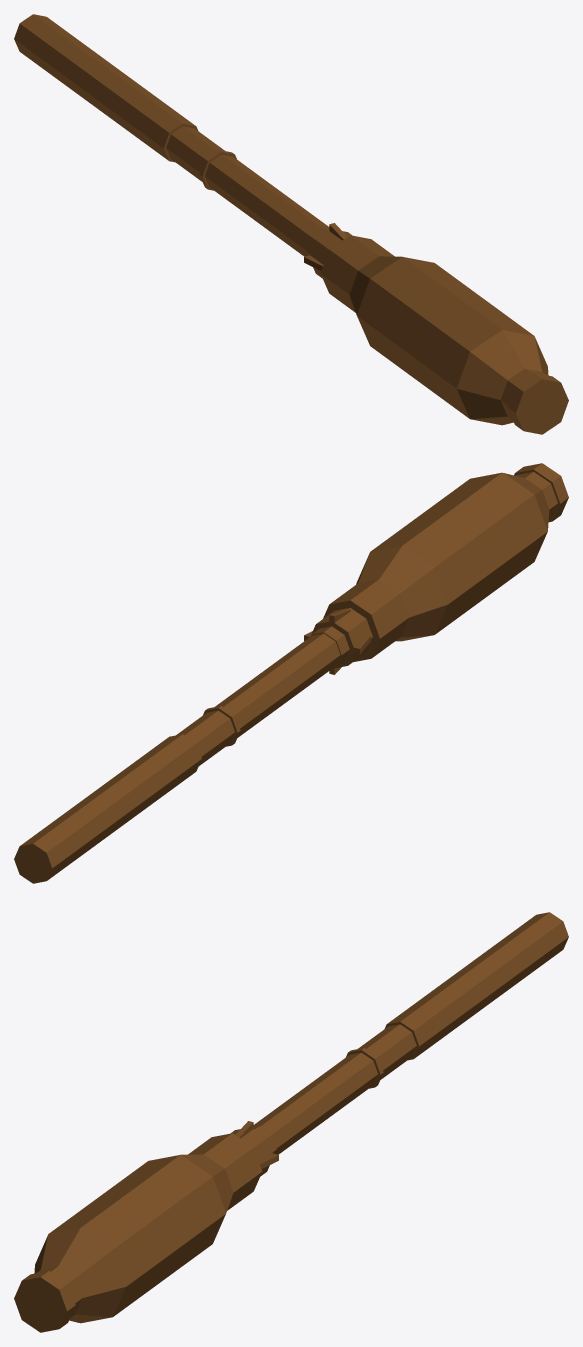
File: tbg7v.gltf
3 views of the same model, one above another, from view 1: azimuth 30°, elevation 25°; view 2: azimuth 150°, elevation 25°; view 3: azimuth 330°, elevation 25° (orthographic).
Parts seen in each view (by area): view 1: tbg7v; view 2: tbg7v; view 3: tbg7v.
Boxes of the visible parts, x1,y1,x2,y2 form: tbg7v: (14,14,568,434); tbg7v: (14,463,568,883); tbg7v: (14,912,568,1332).
Size of the model in its own units: 0.0969 by 0.0969 by 0.9366.
1 material, 1 textured.
